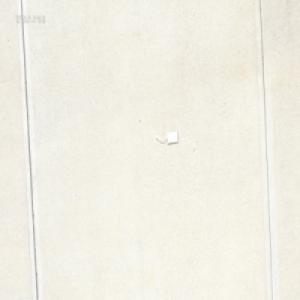LuggageTag: (153, 130, 178, 146)
